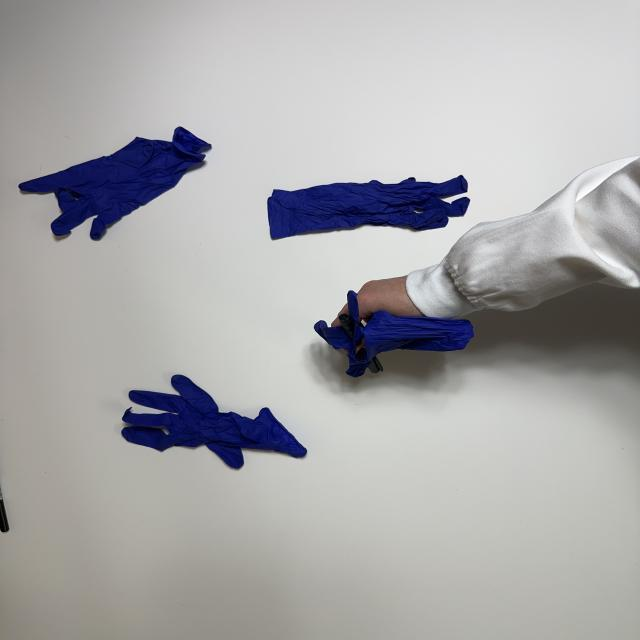glove_not_fitted: (313, 272, 482, 380)
